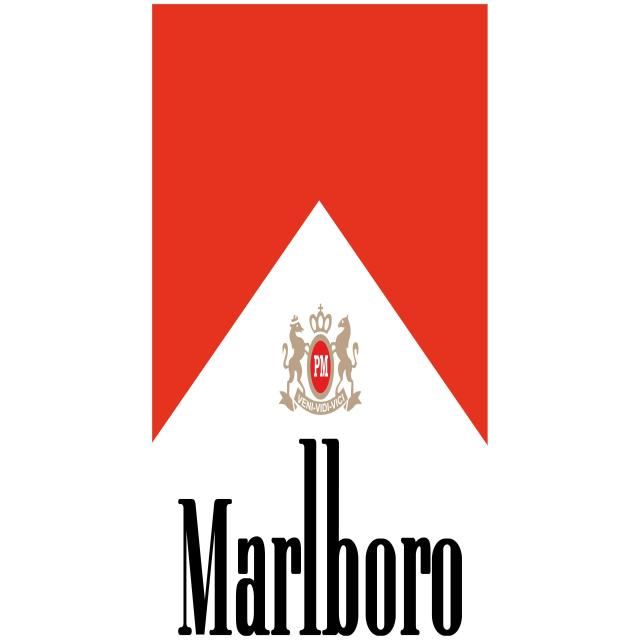marlboro: (149, 0, 500, 640)
